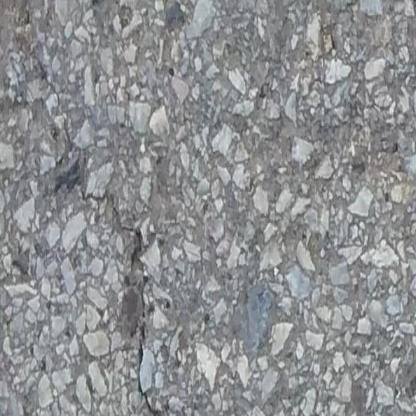Cracks: (132, 262, 169, 416), (383, 0, 416, 33)
